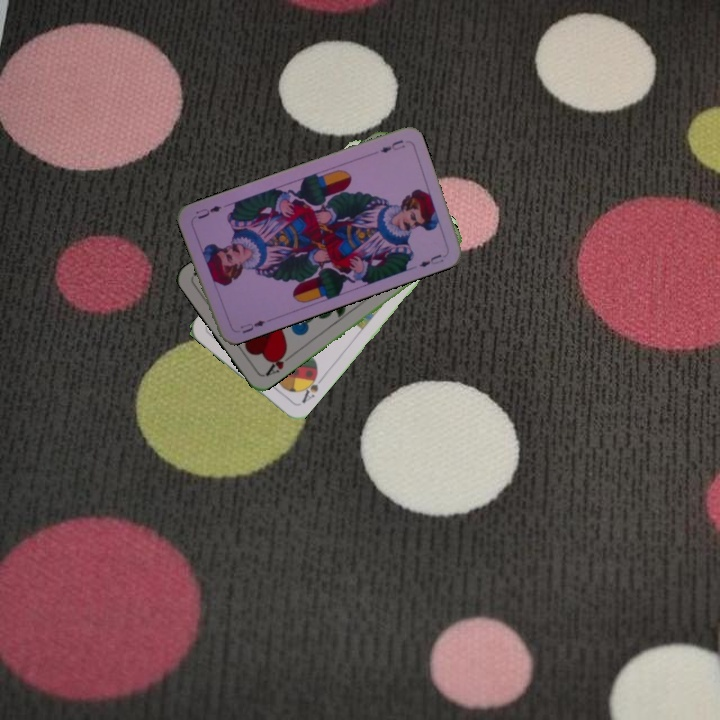EU: (236, 316, 268, 336), (376, 136, 407, 156)
HA: (261, 346, 296, 379)
SA: (296, 369, 326, 406)
